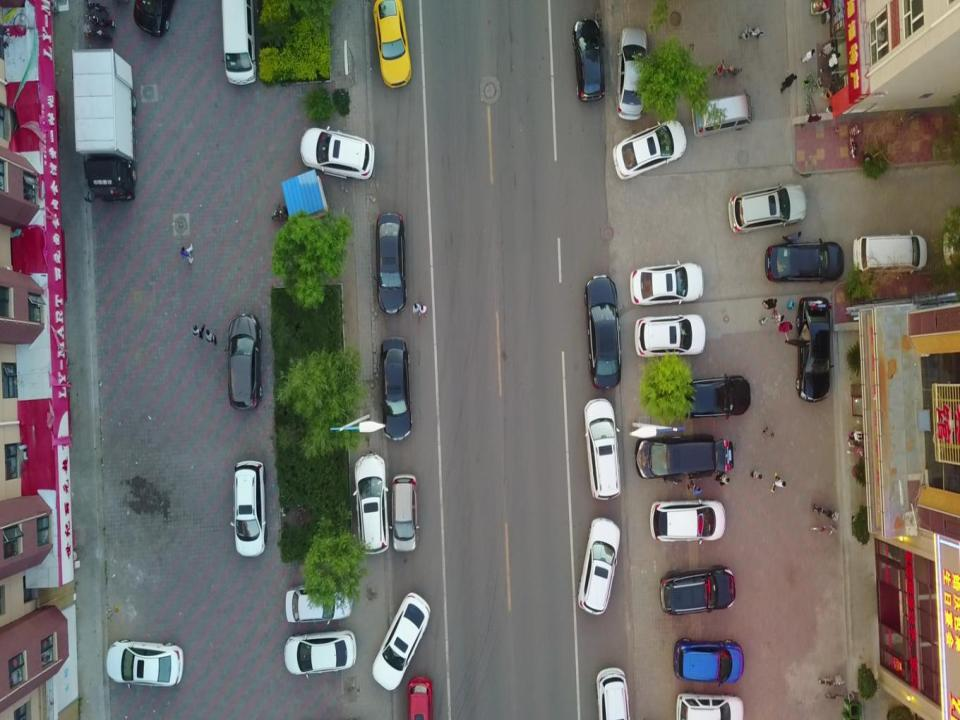car: (377, 593, 430, 694), (578, 396, 626, 502), (633, 436, 736, 483), (614, 119, 688, 178), (300, 126, 376, 180), (584, 277, 621, 387), (579, 518, 621, 614), (798, 298, 835, 406), (645, 497, 731, 543), (682, 376, 758, 424), (372, 1, 412, 87), (630, 261, 702, 306), (726, 188, 809, 227), (768, 240, 845, 282), (106, 644, 186, 684), (852, 232, 928, 274), (379, 338, 410, 440), (357, 453, 388, 555), (375, 212, 405, 314), (235, 458, 265, 558), (284, 637, 359, 676), (222, 0, 256, 85), (637, 319, 707, 359), (229, 317, 259, 409), (618, 30, 647, 121), (679, 641, 744, 681), (661, 577, 737, 610), (673, 685, 744, 720), (282, 588, 356, 620), (574, 22, 603, 100), (392, 476, 418, 554), (694, 94, 752, 128)
truck: (68, 57, 144, 204)
